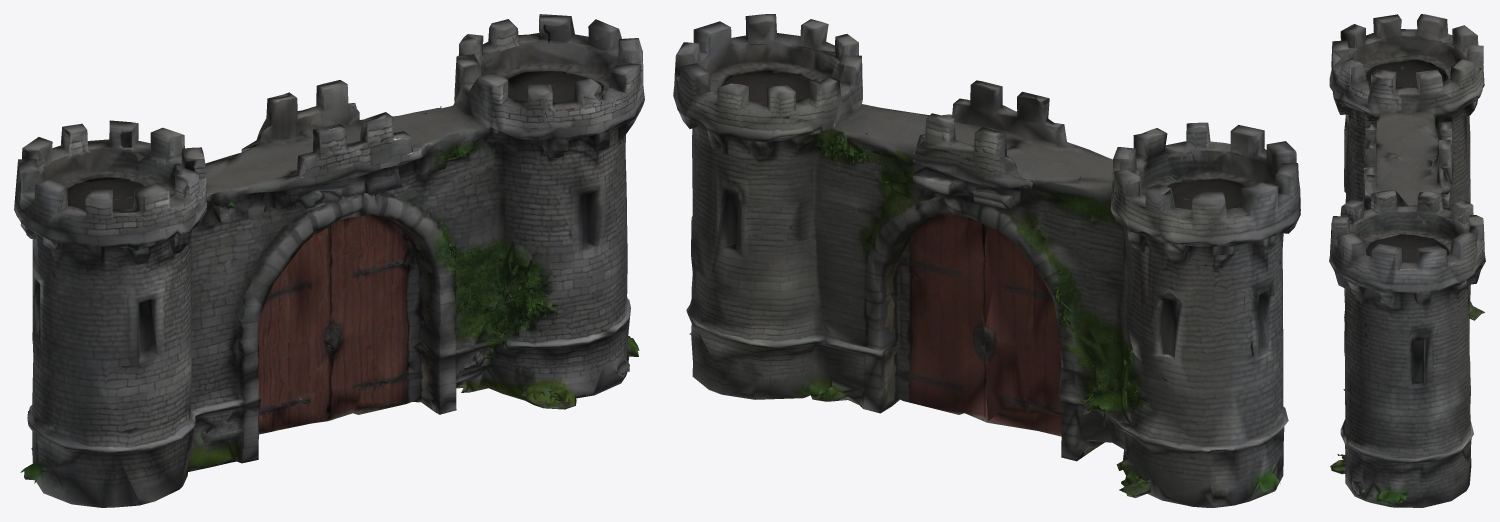
Rendered from fort_m_meadow_gate.glb.
3 views of the same model, side by side, from view 1: azimuth 30°, elevation 25°; view 2: azimuth 150°, elevation 25°; view 3: azimuth 270°, elevation 25° (orthographic). The views are drawn at different scales.
Parts seen in each view (by area): view 1: fort_m_meadow_gate; view 2: fort_m_meadow_gate; view 3: fort_m_meadow_gate.
Boxes of the visible parts, <box> form: fort_m_meadow_gate: <box>14,14,644,507</box>; fort_m_meadow_gate: <box>673,14,1300,507</box>; fort_m_meadow_gate: <box>1329,14,1485,507</box>.
Bounding box in the file's own units: 1.99 × 0.9968 × 0.5443.
1 material, 1 textured.
